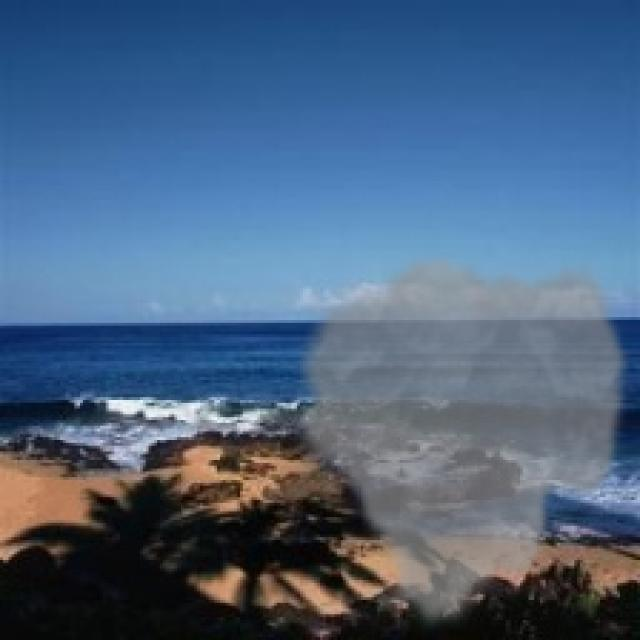Smoke: (288, 252, 634, 634)
